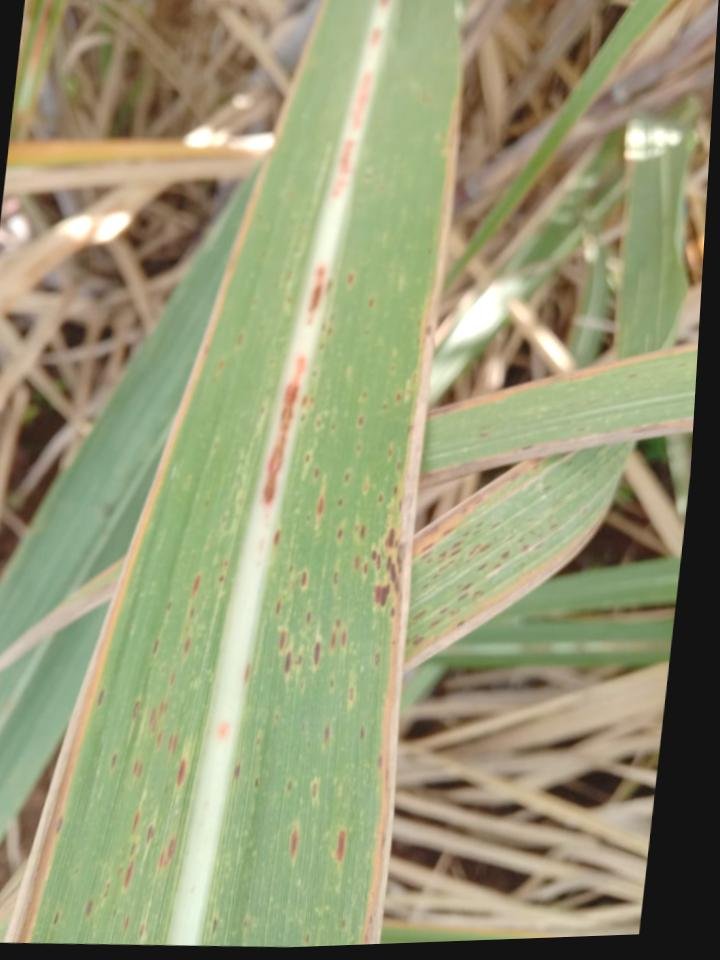RedRot: (258, 340, 312, 518), (327, 60, 379, 205), (304, 256, 330, 325), (206, 709, 236, 753), (370, 29, 381, 46), (377, 0, 389, 9)
Rust: (223, 356, 420, 874), (42, 556, 232, 944), (402, 513, 564, 659), (540, 442, 633, 516), (293, 317, 339, 439), (420, 491, 486, 540), (214, 323, 252, 384), (270, 261, 303, 316), (47, 803, 75, 843), (359, 283, 384, 322), (338, 258, 361, 299), (266, 520, 288, 556), (463, 427, 492, 446), (237, 659, 252, 683)
Yellow: (8, 154, 275, 942), (403, 501, 610, 669), (419, 419, 693, 495), (427, 345, 698, 420), (412, 455, 551, 553)
